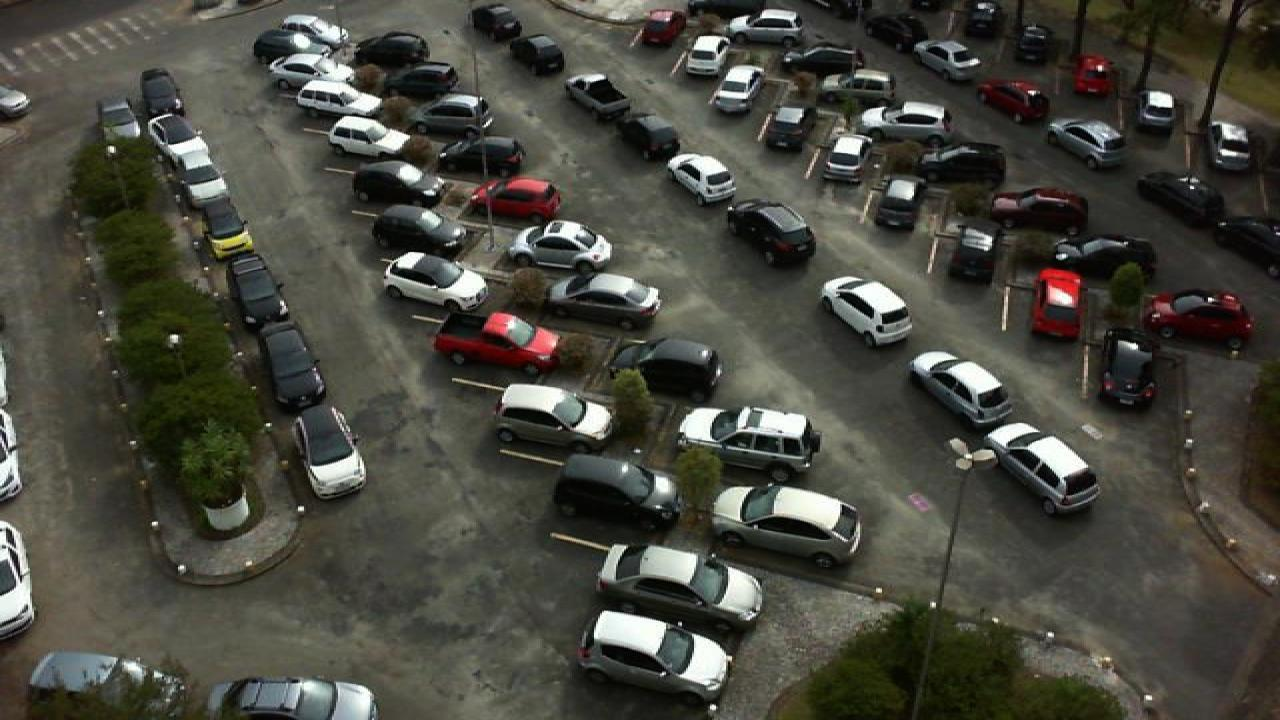Car: (594, 544, 766, 634), (578, 608, 734, 706), (708, 480, 866, 568), (26, 650, 212, 720), (676, 405, 824, 483), (986, 421, 1102, 516), (550, 451, 680, 532), (432, 310, 562, 377), (908, 351, 1014, 430), (494, 383, 614, 451), (286, 405, 368, 503), (208, 676, 380, 720), (544, 270, 662, 332), (612, 335, 724, 399), (380, 250, 490, 315), (818, 274, 914, 348), (724, 200, 818, 267), (260, 322, 328, 410), (986, 185, 1092, 238), (506, 219, 614, 271), (1146, 292, 1258, 342), (1096, 327, 1160, 412), (1052, 234, 1158, 284), (1136, 172, 1228, 226), (368, 204, 466, 252), (230, 253, 290, 331), (348, 160, 446, 206), (470, 175, 564, 222), (1046, 117, 1130, 169), (1028, 269, 1088, 340), (326, 116, 414, 162), (858, 101, 954, 143), (664, 153, 738, 207), (918, 142, 1008, 186), (944, 222, 1004, 284), (438, 135, 526, 177), (614, 112, 686, 162), (408, 95, 492, 136), (976, 80, 1052, 124), (198, 197, 254, 256), (292, 79, 374, 118), (910, 38, 984, 81), (564, 74, 630, 120), (268, 53, 354, 88), (814, 71, 896, 107), (780, 44, 864, 79), (870, 180, 924, 232), (352, 30, 430, 66), (146, 114, 200, 166), (728, 9, 806, 45), (164, 136, 218, 187), (820, 134, 876, 183), (180, 161, 236, 210), (386, 62, 462, 98), (708, 66, 766, 112), (1230, 189, 1280, 242), (250, 30, 332, 62), (1212, 120, 1258, 170), (512, 33, 568, 74), (866, 12, 928, 48), (98, 98, 144, 146), (280, 12, 350, 43), (762, 106, 810, 150), (682, 34, 730, 78), (140, 69, 182, 117), (470, 4, 524, 40), (638, 8, 688, 46), (1136, 89, 1176, 129), (1076, 55, 1114, 96), (1014, 25, 1052, 63), (964, 0, 1004, 36)
